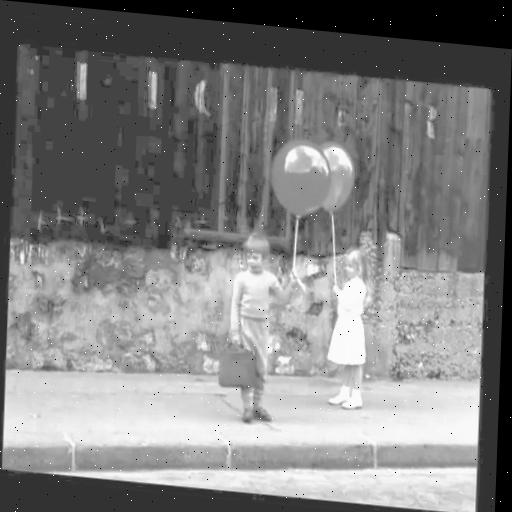balloon: (269, 136, 333, 221), (316, 139, 356, 216)
